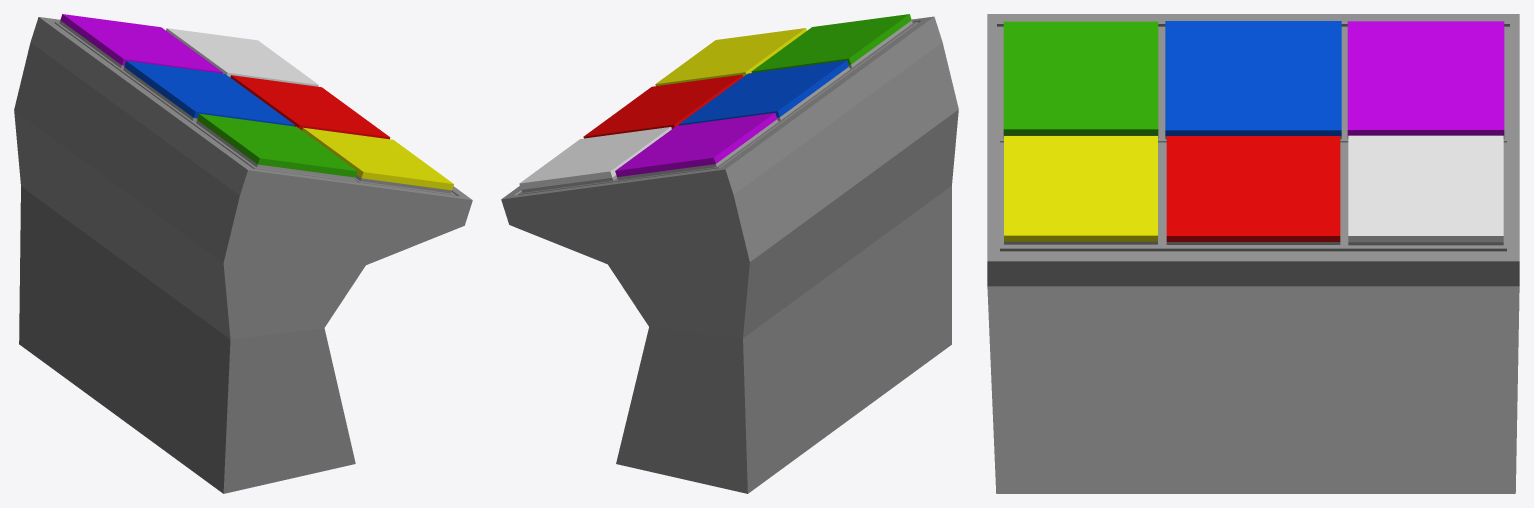
File: colourchangeConsole.fbx
3 renders of one model, left to right at view 1: azimuth 30°, elevation 25°; view 2: azimuth 150°, elevation 25°; view 3: azimuth 270°, elevation 25°, orthographic. The views are drawn at different scales.
Visible parts, largest first — view 1: pCube1; view 2: pCube1; view 3: pCube1.
Boxes of the visible parts, x1=… form: pCube1: x1=14, y1=14, x2=472, y2=493; pCube1: x1=501, y1=14, x2=958, y2=493; pCube1: x1=987, y1=14, x2=1519, y2=493.
Bounding box in the file's own units: 1.95 × 2.44 × 2.83.
